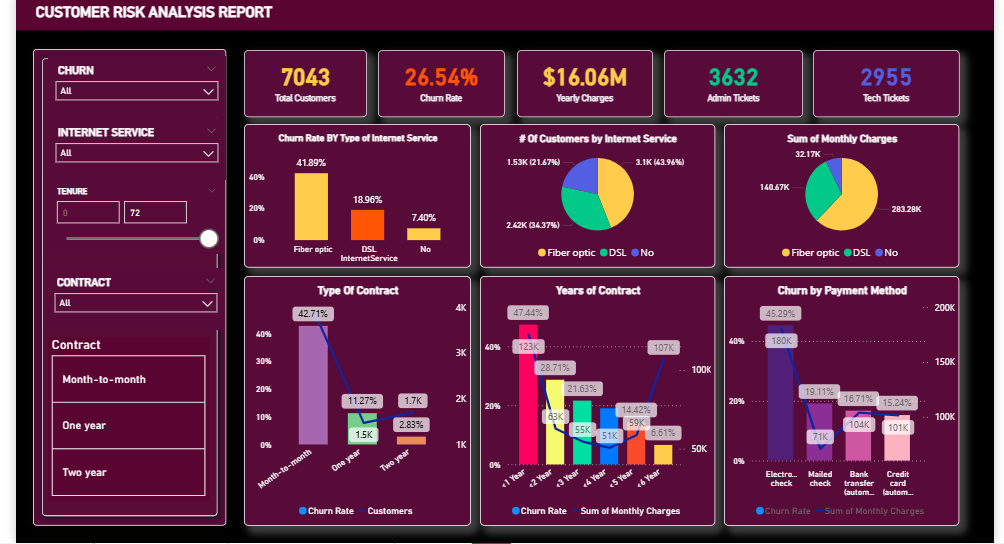

The page's visual inventory and layout, read from the dashboard file:
{"tool":"powerbi","page":{"name":"Customer Risk Analysis","canvas":[1280,720],"ordinal":1},"visuals":[{"type":"shape","box":[0,0,1280,49],"z":0},{"type":"textbox","box":[21,8,438,33],"z":1000},{"type":"shape","box":[21.6,73.4,253.4,623.5],"z":2000},{"type":"slicer","fields":{"Values":["Churn.Churn"]},"box":[42,82,233,81],"z":3000},{"type":"slicer","fields":{"Values":["Churn.InternetService"]},"box":[42,163,233,81],"z":4000},{"type":"slicer","fields":{"Values":["Churn.tenure"]},"box":[41,244,233,97],"z":5000},{"type":"slicer","fields":{"Values":["Churn.Contract"]},"box":[41,360,233,81],"z":6000},{"type":"card","fields":{"Values":["CountNonNull(01 Churn-Dataset.customerID)"]},"box":[298,74,161,88],"z":7000},{"type":"card","fields":{"Values":["Churn.% Churn Rate"]},"box":[474,75,166,88],"z":8000},{"type":"card","fields":{"Values":["Sum(Churn.TotalCharges)"]},"box":[656,75,178,88],"z":9000},{"type":"card","fields":{"Values":["Sum(Churn.numAdminTickets)"]},"box":[848,75,182,88],"z":10000},{"type":"card","fields":{"Values":["Sum(Churn.numTechTickets)"]},"box":[1043,74,192,88],"z":11000},{"type":"columnChart","title":"Churn Rate BY Type of Internet Service","fields":{"Y":["Churn.% Churn Rate"],"Category":["Churn.InternetService"]},"box":[298,172,297,188],"z":12000},{"type":"pieChart","title":"# Of Customers by Internet Service","fields":{"Y":["CountNonNull(Churn.customerID)"],"Category":["Churn.InternetService"]},"box":[607,172,308,188],"z":13000},{"type":"pieChart","title":"Sum of Monthly Charges","fields":{"Category":["Churn.InternetService"],"Y":["Sum(Churn.MonthlyCharges)"]},"box":[927,172,308,188],"z":14000},{"type":"lineStackedColumnComboChart","title":"Type Of Contract","fields":{"Y2":["CountNonNull(Churn.customerID)"],"Y":["Churn.% Churn Rate"],"Category":["Churn.Contract"]},"box":[298.1,370.1,296.6,326.9],"z":15000},{"type":"lineStackedColumnComboChart","title":"Years of Contract","fields":{"Y":["Churn.% Churn Rate"],"Y2":["Sum(Churn.MonthlyCharges)"],"Category":["Churn.Tenure(in years)"]},"box":[607,370,308,327],"z":16000},{"type":"lineStackedColumnComboChart","title":"Churn by Payment Method","fields":{"Y":["Churn.% Churn Rate"],"Y2":["Sum(Churn.MonthlyCharges)"],"Category":["Churn.PaymentMethod"]},"box":[927,370,308,327],"z":17000},{"type":"advancedSlicerVisual","fields":{"Values":["Churn.Contract"]},"box":[41.8,450.7,211.7,214.6],"z":18000}]}

Visuals, with their boxes on the page's 1280x720 design canvas (x1, y1, x2, y2). These are canvas units, not pixel positions in the 1004x544 screenshot, which may show the page scaled, cropped or inside an application window:
shape: detection(0, 0, 1280, 49)
textbox: detection(21, 8, 459, 41)
shape: detection(22, 73, 275, 697)
slicer - Churn.Churn: detection(42, 82, 275, 163)
slicer - Churn.InternetService: detection(42, 163, 275, 244)
slicer - Churn.tenure: detection(41, 244, 274, 341)
slicer - Churn.Contract: detection(41, 360, 274, 441)
card - CountNonNull(01 Churn-Dataset.customerID): detection(298, 74, 459, 162)
card - Churn.% Churn Rate: detection(474, 75, 640, 163)
card - Sum(Churn.TotalCharges): detection(656, 75, 834, 163)
card - Sum(Churn.numAdminTickets): detection(848, 75, 1030, 163)
card - Sum(Churn.numTechTickets): detection(1043, 74, 1235, 162)
"Churn Rate BY Type of Internet Service" columnChart: detection(298, 172, 595, 360)
"# Of Customers by Internet Service" pieChart: detection(607, 172, 915, 360)
"Sum of Monthly Charges" pieChart: detection(927, 172, 1235, 360)
"Type Of Contract" lineStackedColumnComboChart: detection(298, 370, 595, 697)
"Years of Contract" lineStackedColumnComboChart: detection(607, 370, 915, 697)
"Churn by Payment Method" lineStackedColumnComboChart: detection(927, 370, 1235, 697)
advancedSlicerVisual - Churn.Contract: detection(42, 451, 254, 665)
